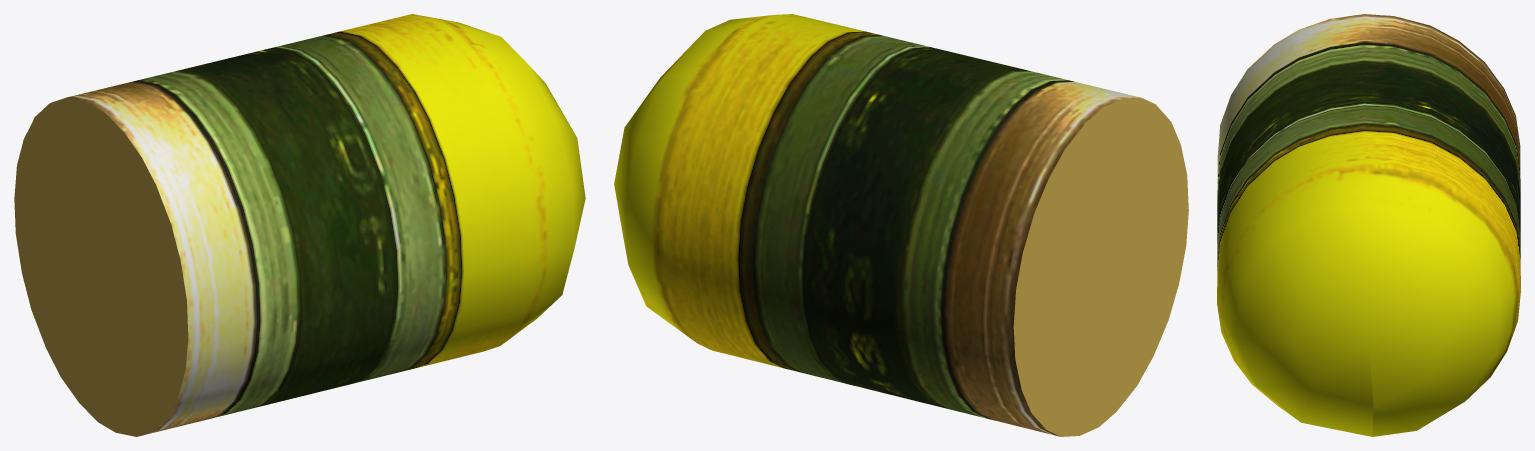
The model's file is 40ammo_world.fbx.
3 views of the same model, side by side, from view 1: azimuth 30°, elevation 25°; view 2: azimuth 150°, elevation 25°; view 3: azimuth 270°, elevation 25° (orthographic). The views are drawn at different scales.
Parts seen in each view (by area): view 1: 40mm_ammo; view 2: 40mm_ammo; view 3: 40mm_ammo.
Part boxes in pixels (x1,y1,x2,y2): 40mm_ammo: (14,14,585,436); 40mm_ammo: (614,14,1188,436); 40mm_ammo: (1217,14,1520,436).
Bounding box in the file's own units: 0.0913 × 0.0605 × 0.061.
